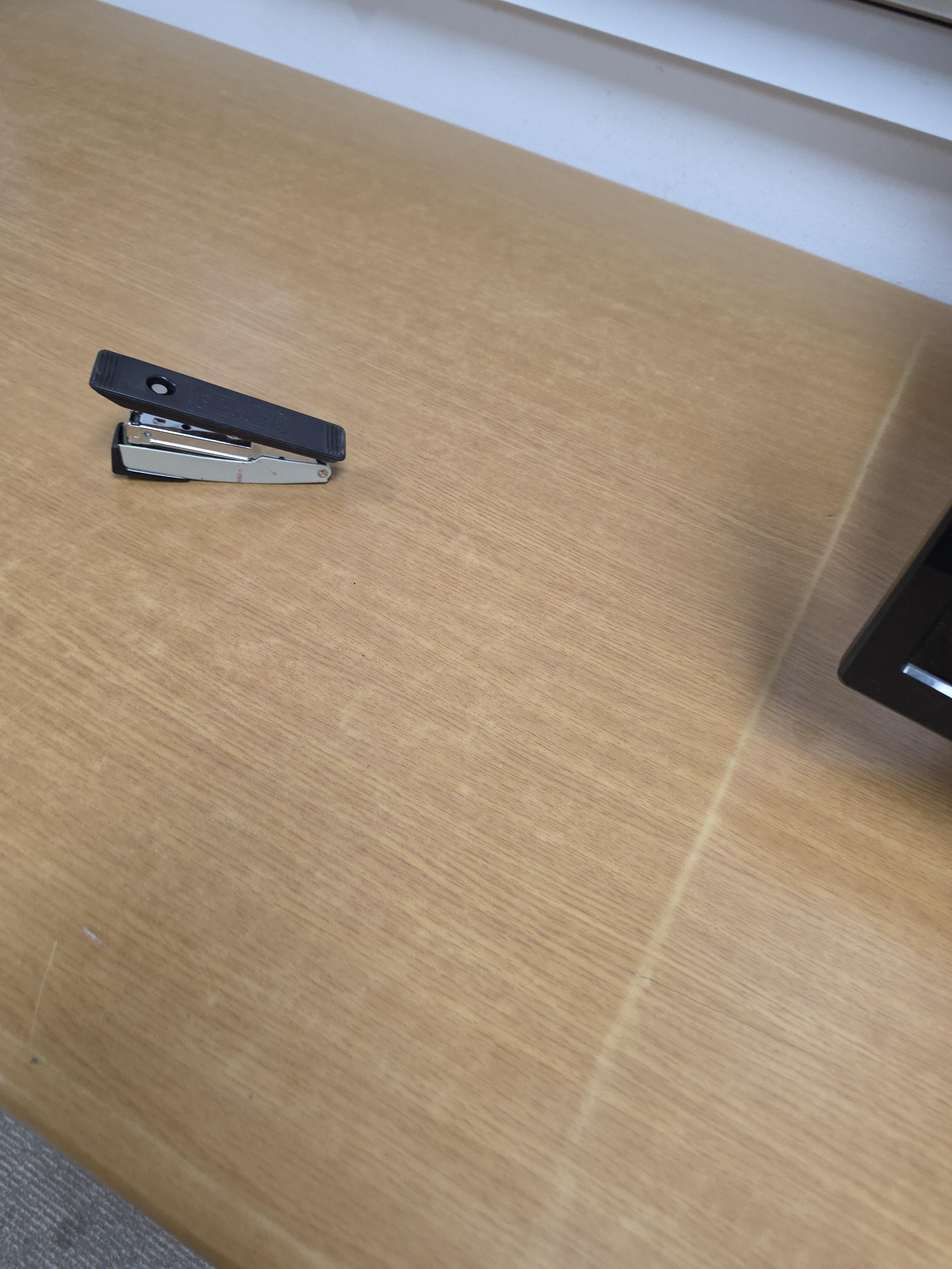stapler: (89, 348, 347, 486)
